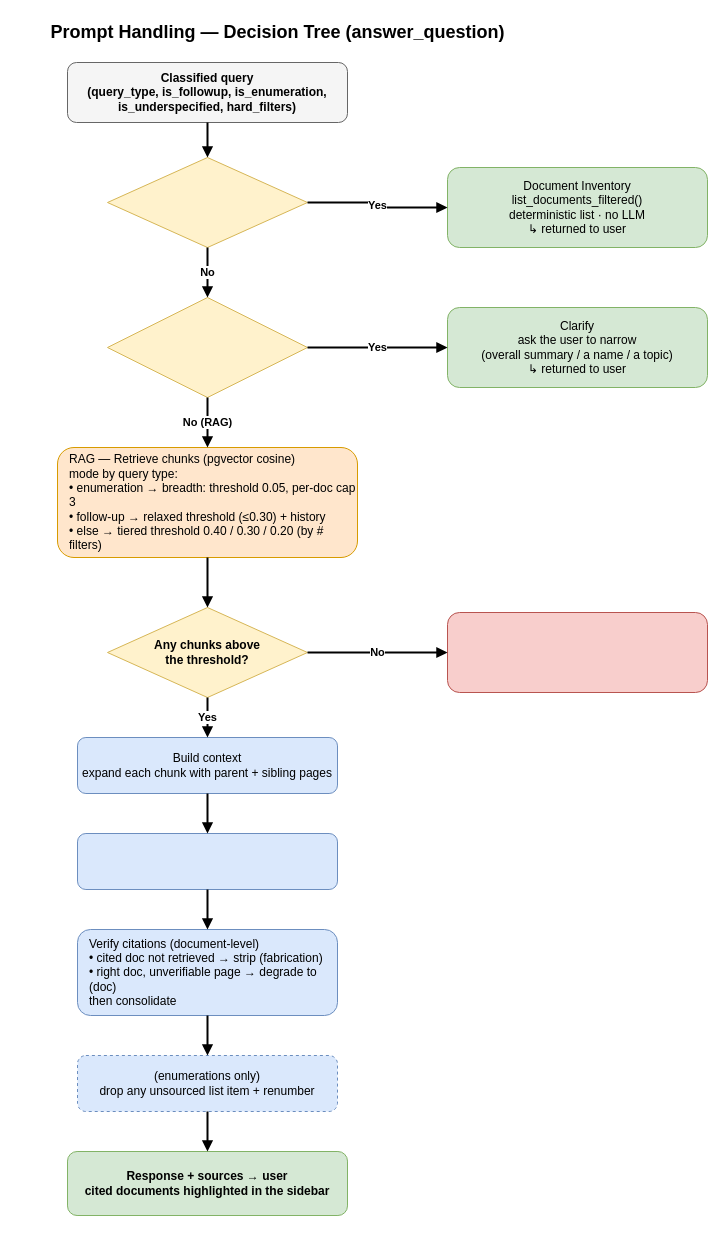
The diagram is 725 pixels wide and 1233 high, and some of its shapes have lost their labels. The centre of each missing label's shape, as x and y in pixels:
Fallback "No sufficiently relevant content found" ↳ returned to user: (x=577, y=652)
Generate answer Gemini 3.5 Flash (+ conversation history): (x=207, y=861)
is_underspecified? (filter present, but no concrete topic): (x=207, y=347)
query_type == 'list_documents'?: (x=207, y=202)
